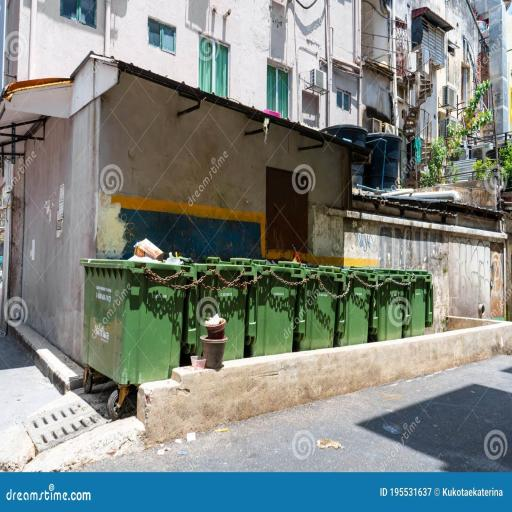contenedor_lleno: (103, 258, 433, 367)
